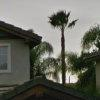Tree: (49, 7, 94, 85)
